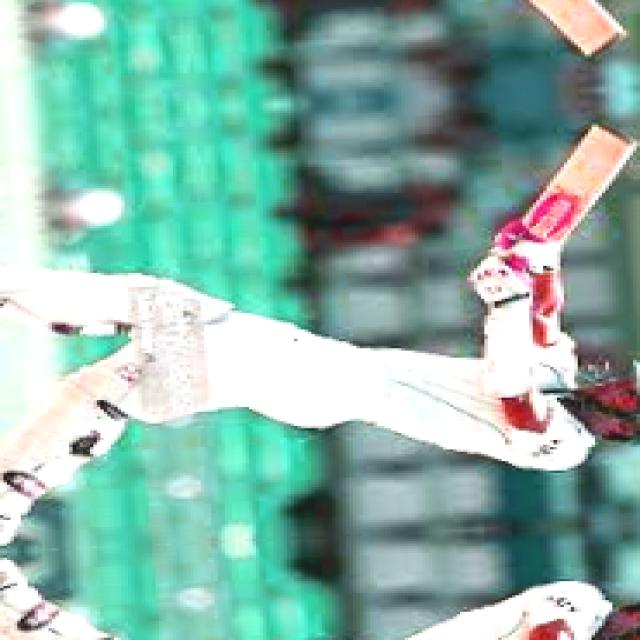toe: (571, 109, 640, 153)
